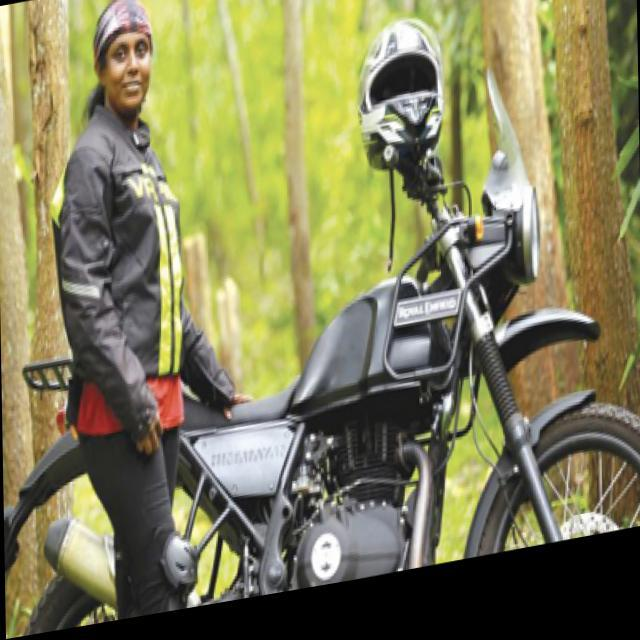Nonhelmet: (82, 0, 162, 122)
